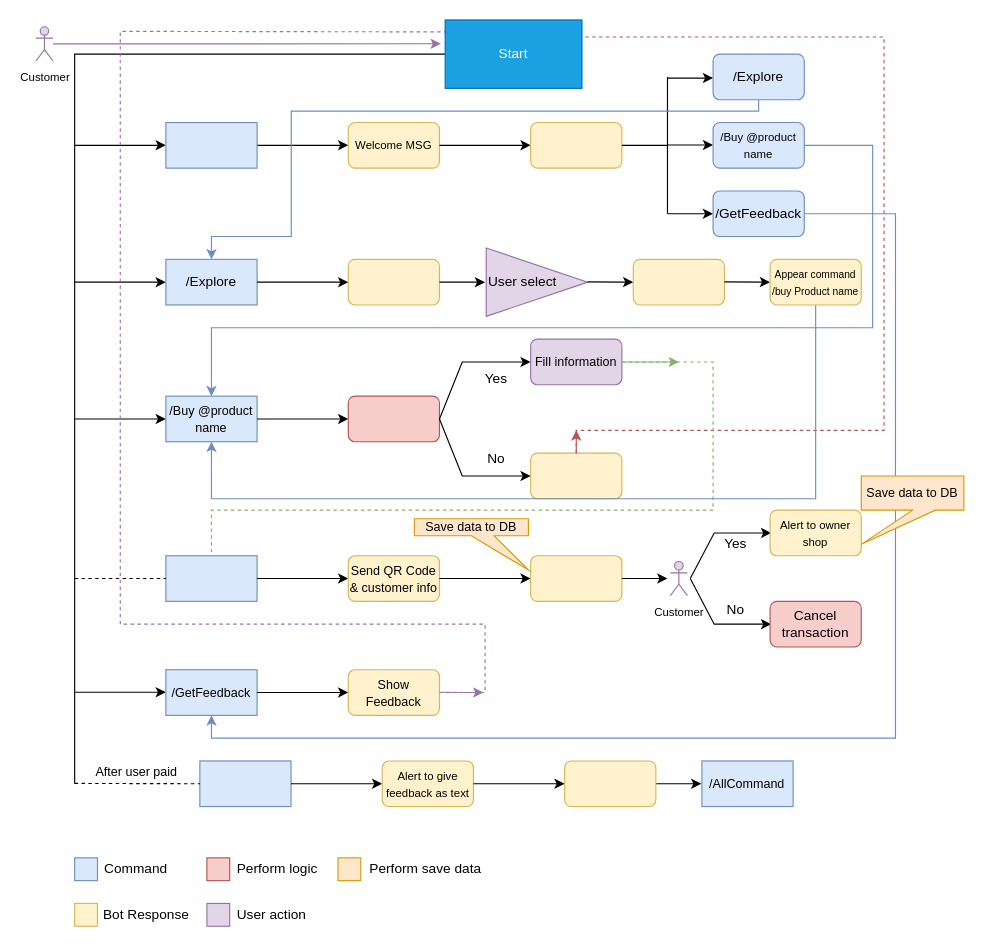
Some shapes in this 984 by 952 pixel diagram are drawn without their labels. Here are the shapes that lost their labels. From the top down, the centre of each, then its label:
[211,144]: /Start
[576,144]: Give Option
[393,281]: Show available brand/category
[678,281]: Show image and name
[393,418]: Check if exist
[576,475]: Outstock MSG
[211,578]: Buy confirm
[576,578]: Alert user done paid?
[245,783]: /GiveFeedback
[610,783]: Thank you text
